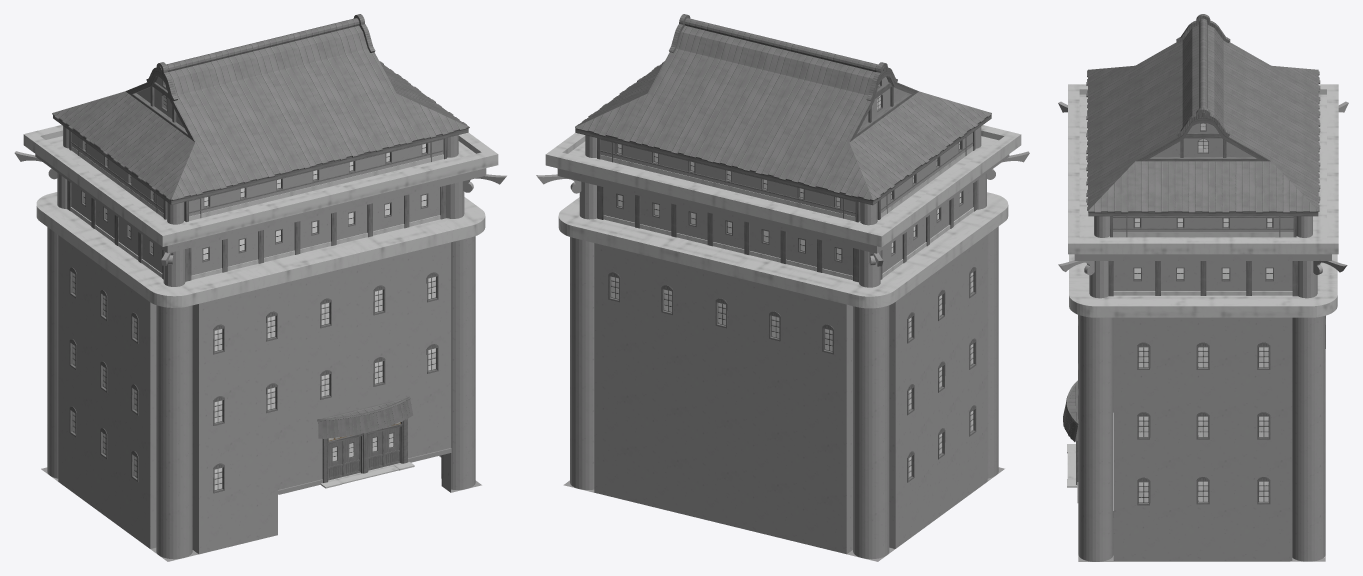
Rendered from SM_ENV_KNVLLG_AreaJ_Building_A_Part01.mo.fbx.
3 views of the same model, side by side, from view 1: azimuth 30°, elevation 25°; view 2: azimuth 150°, elevation 25°; view 3: azimuth 270°, elevation 25° (orthographic). The views are drawn at different scales.
Parts seen in each view (by area): view 1: SM_ENV_KNVLLG_AreaJ_Building_A_Part01.mo; view 2: SM_ENV_KNVLLG_AreaJ_Building_A_Part01.mo; view 3: SM_ENV_KNVLLG_AreaJ_Building_A_Part01.mo.
Boxes of the visible parts, x1,y1,x2,y2 form: SM_ENV_KNVLLG_AreaJ_Building_A_Part01.mo: (14,14,506,561); SM_ENV_KNVLLG_AreaJ_Building_A_Part01.mo: (536,14,1029,561); SM_ENV_KNVLLG_AreaJ_Building_A_Part01.mo: (1058,14,1348,561).
Size of the model in its own units: 33.16 by 39.88 by 24.71.
